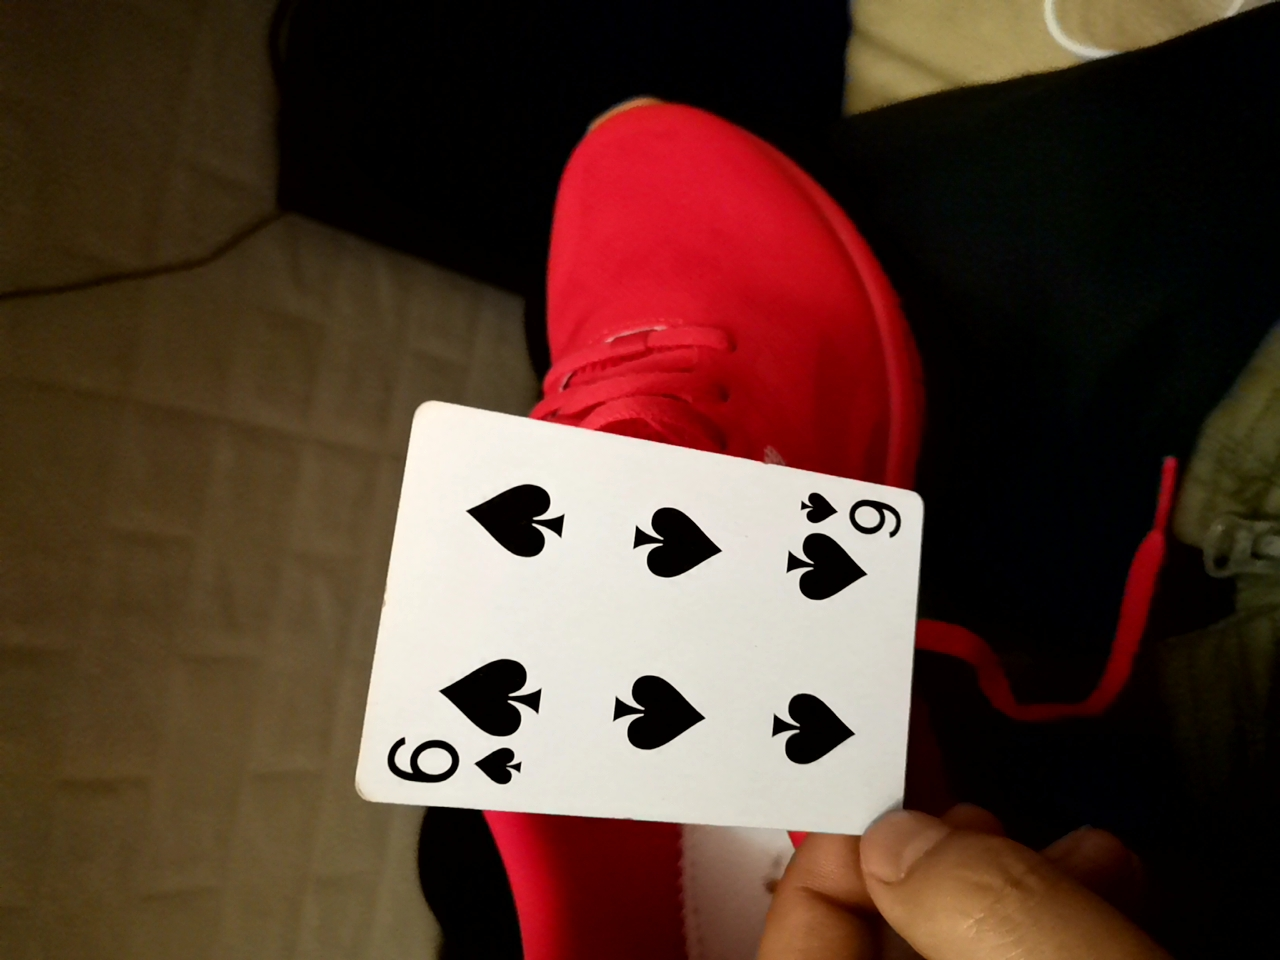ht 6: (346, 421, 939, 832)
